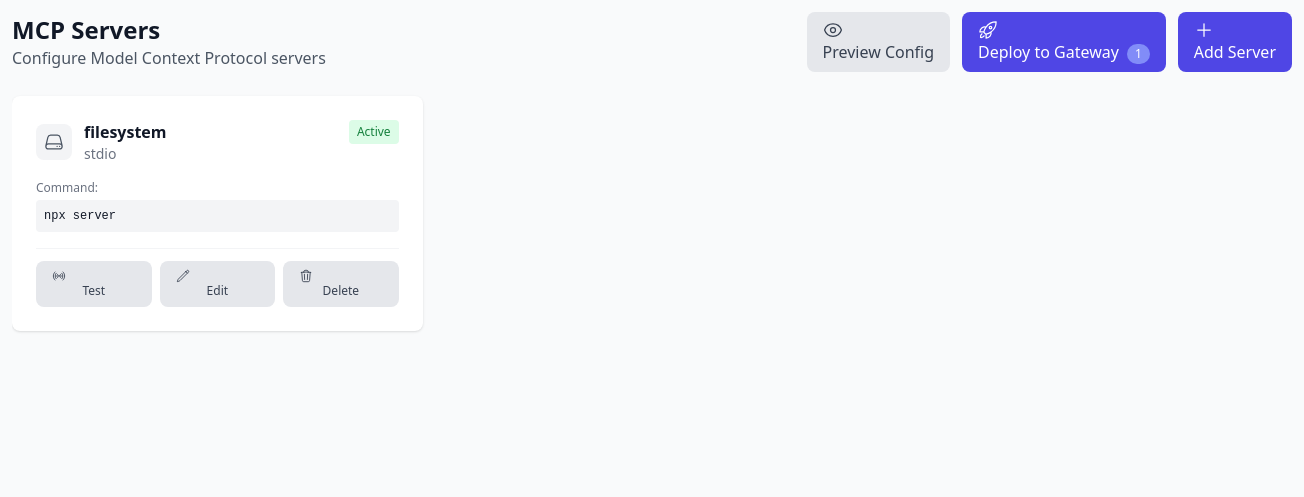
Test: MCPServers › shows delete confirmation dialog when Delete is clicked
What coordinates should you click on to do the following:
click the button "Delete"
I would click on:
 (341, 284)
Its box is [283, 261, 399, 307].
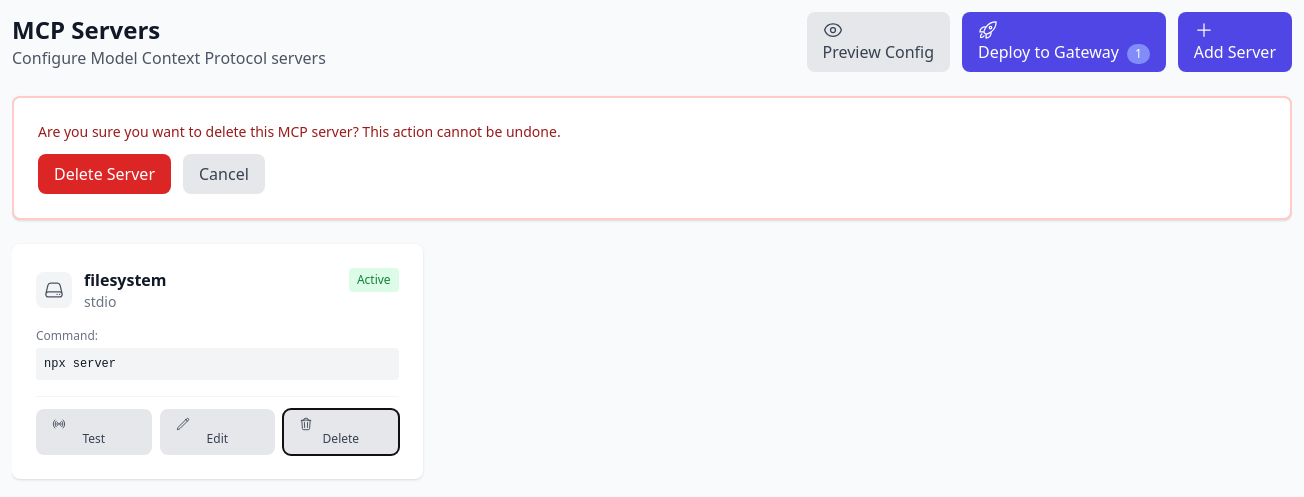
Expected: the text "Are you sure you want to delete this MCP server? This action cannot be undone." is shown, [38, 122, 561, 141]
Expected: the button "Delete Server" is shown, [38, 154, 171, 194]
